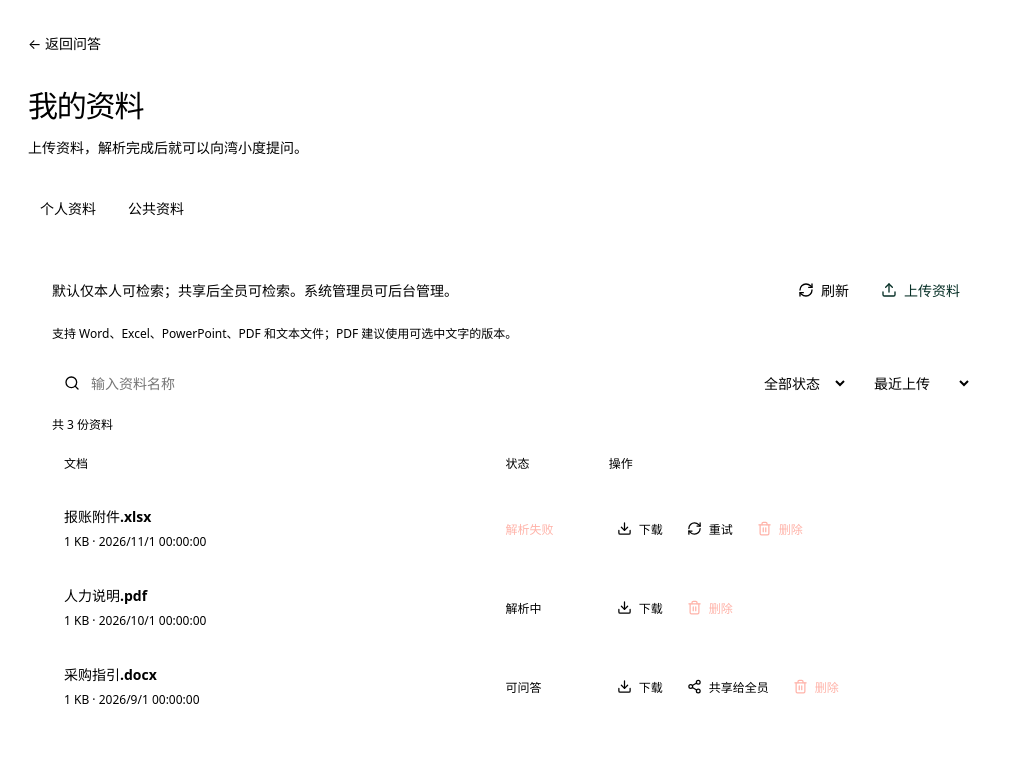
Test: 用户资料和角色 › 按名称和准备状态查找资料，清除筛选后恢复完整列表和时间排序
Expected: the text "采购指引.docx" is shown, [64,665,157,684]
Expected: the row "报账附件.xlsx 1 KB · 2026/11/1 00:00:00 解析失败 下载 重试 删除" is shown, [52,489,972,568]
Type "报账" into the search field named "搜索资料名称" at (408, 383), box [89,364,726,402]
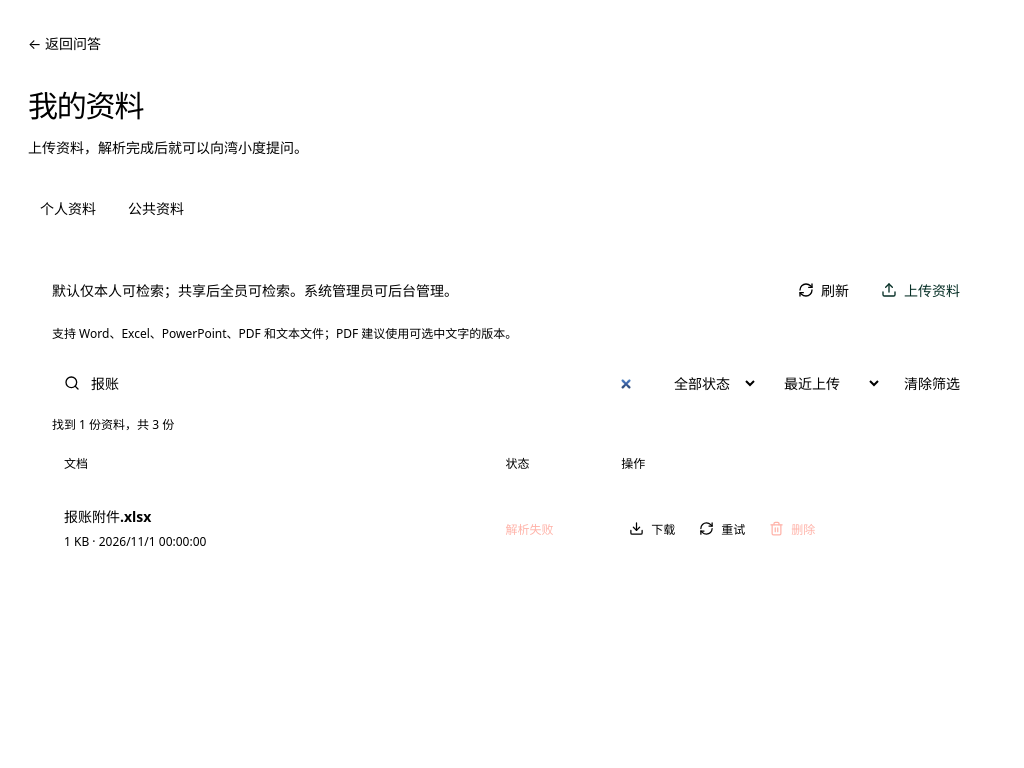
Expected: the text "报账附件.xlsx" is shown, [64,507,151,526]
Expected: the text "采购指引.docx" is gone
Select "可问答" in the 1st dropdown named "资料状态" at (708, 383), box [658,364,758,402]
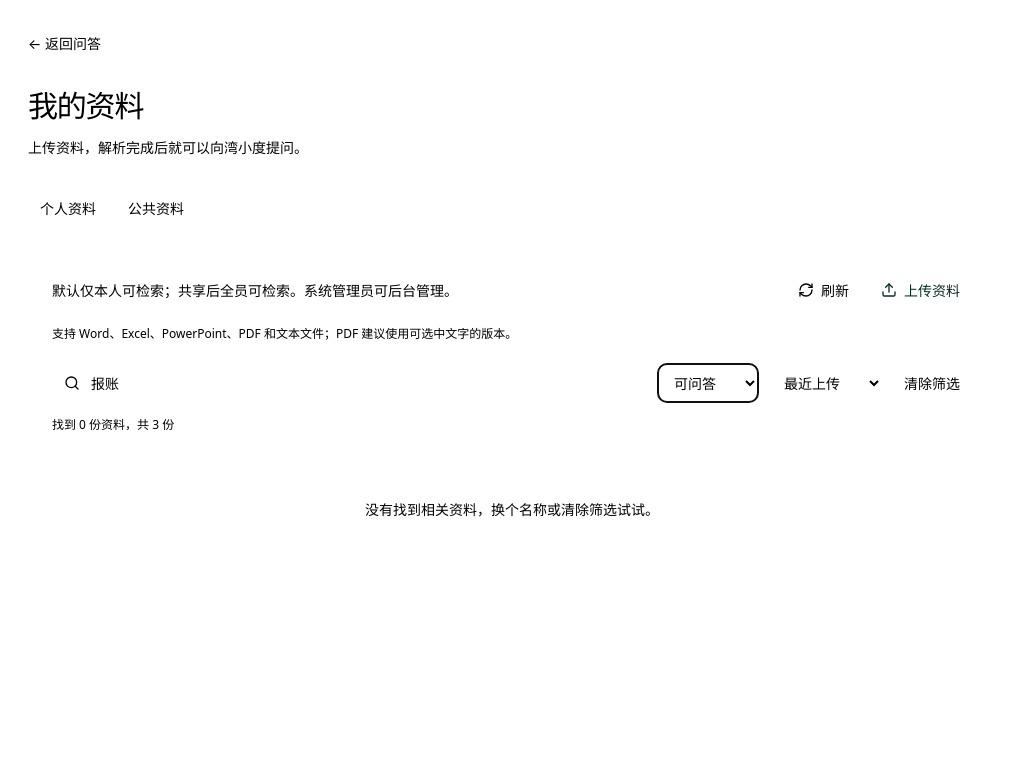
Expected: the text "没有找到相关资料，换个名称或清除筛选试试。" is shown, [365,500,659,519]
Click the button "清除筛选" at (932, 383), box [892,364,972,402]
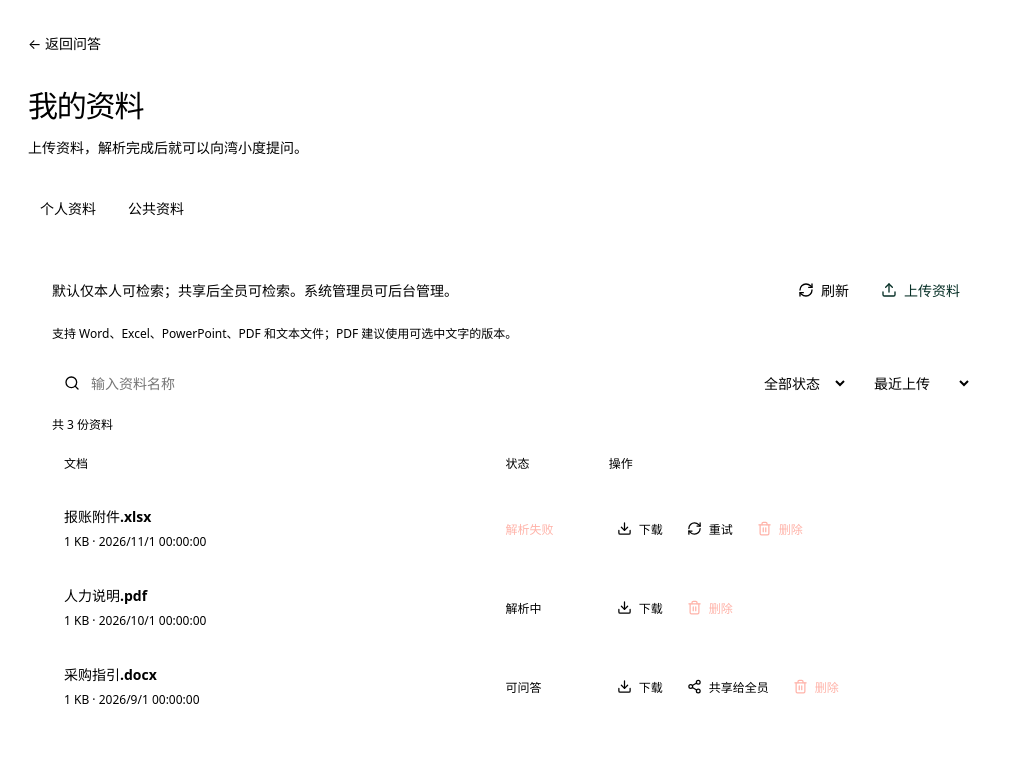
Expected: the search field named "搜索资料名称" is empty, [89,364,726,402]
Expected: the row "报账附件.xlsx 1 KB · 2026/11/1 00:00:00 解析失败 下载 重试 删除" is shown, [52,489,972,568]
Select "最早上传" in the 2nd dropdown named "资料排序" at (915, 383), box [858,364,972,402]
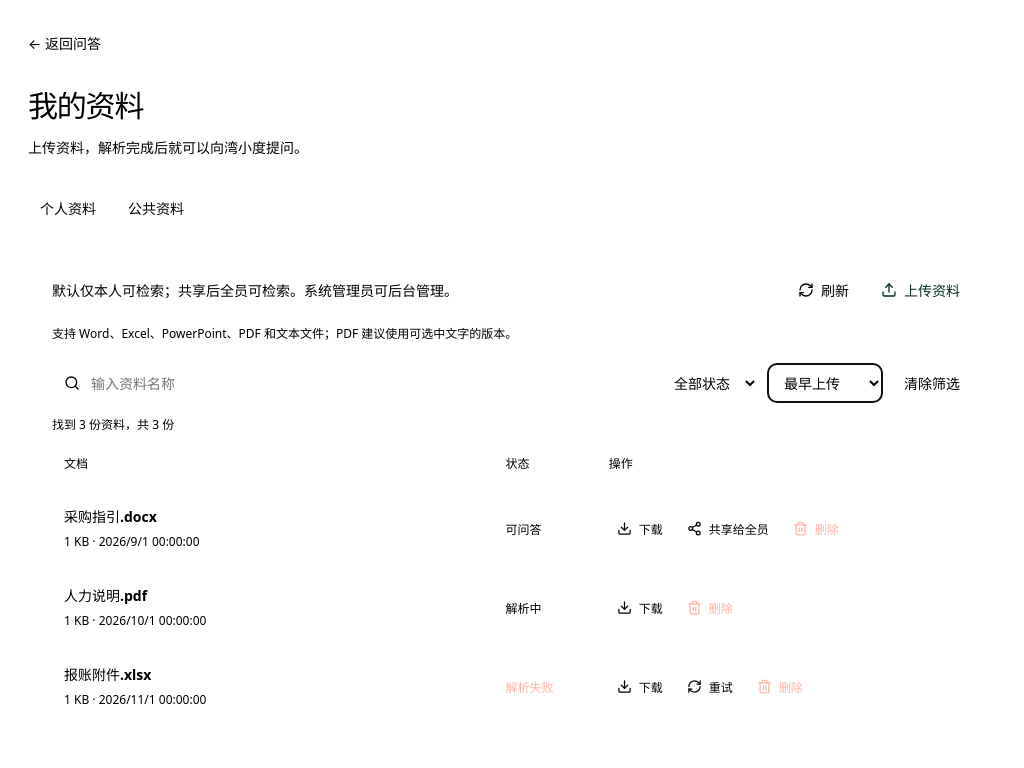
Expected: the row "采购指引.docx 1 KB · 2026/9/1 00:00:00 可问答 下载 共享给全员 删除" is shown, [52,489,972,568]
Select "正在准备" in the 1st dropdown named "资料状态" at (708, 383), box [658,364,758,402]
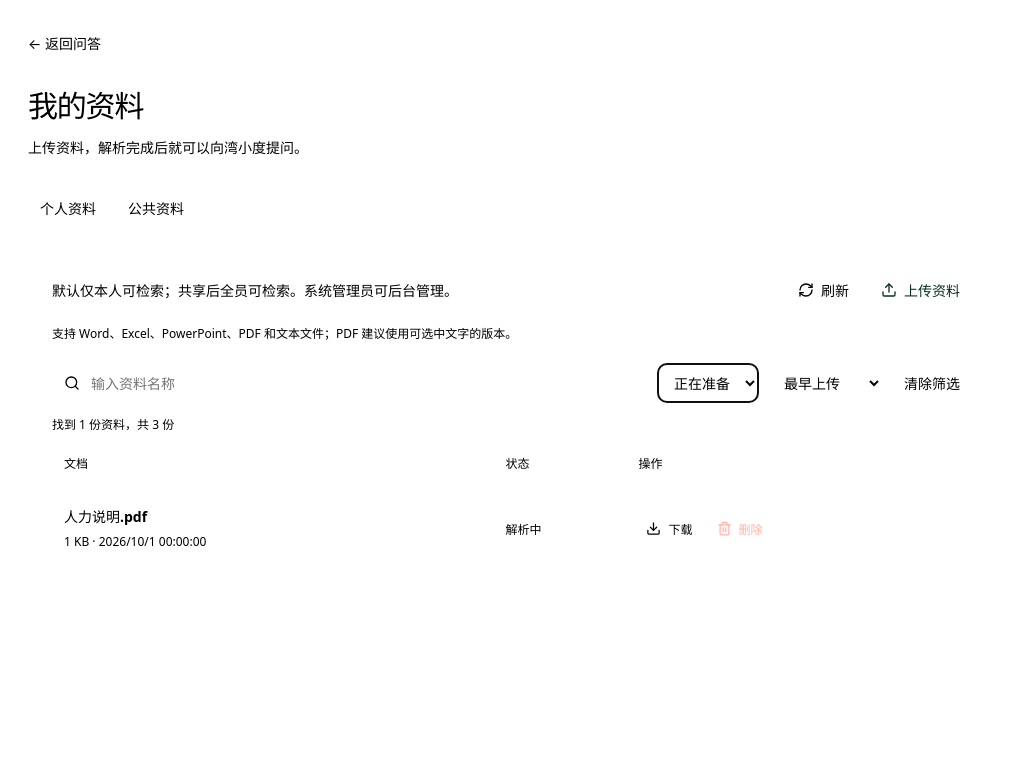
Expected: the text "人力说明.pdf" is shown, [64,507,147,526]
Expected: the text "采购指引.docx" is gone
Expected: the text "找到 1 份资料，共 3 份" is shown, [52,416,174,433]
